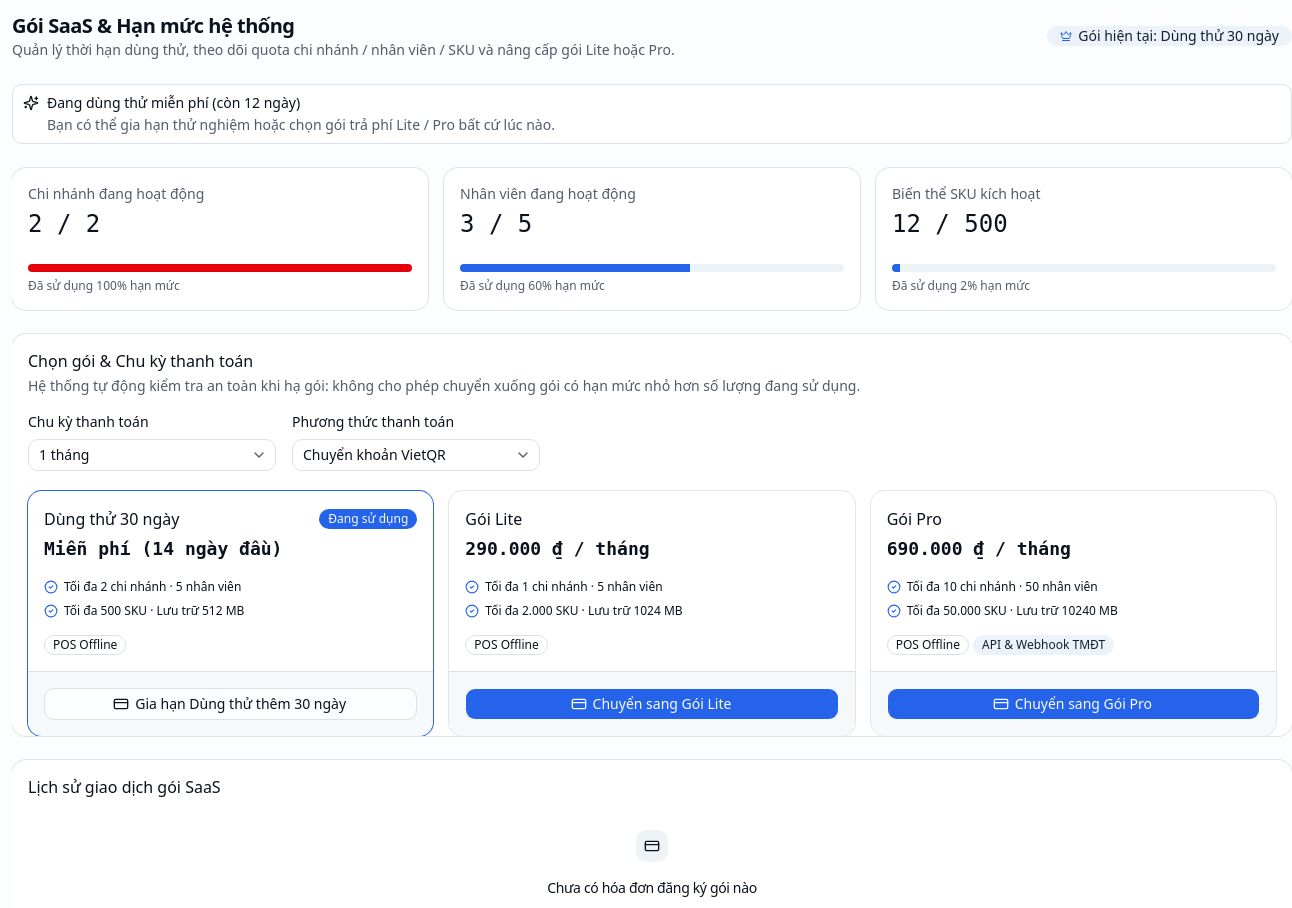
it: Phase 5 Offline Queue, SaaS Billing & Omnichannel Integrations UI › renders BillingPage quotas, shows error when downgrade exceeds active quota, and completes PRO upgrade
Expected: the text "Đang dùng thử miễn phí (còn 12 ngày)" is shown, [47,93,300,112]
Expected: the text "2 / 2" is shown, [28,210,100,238]
Click the button "Chuyển sang Gói Lite" at [652, 704], box [465,688,839,720]
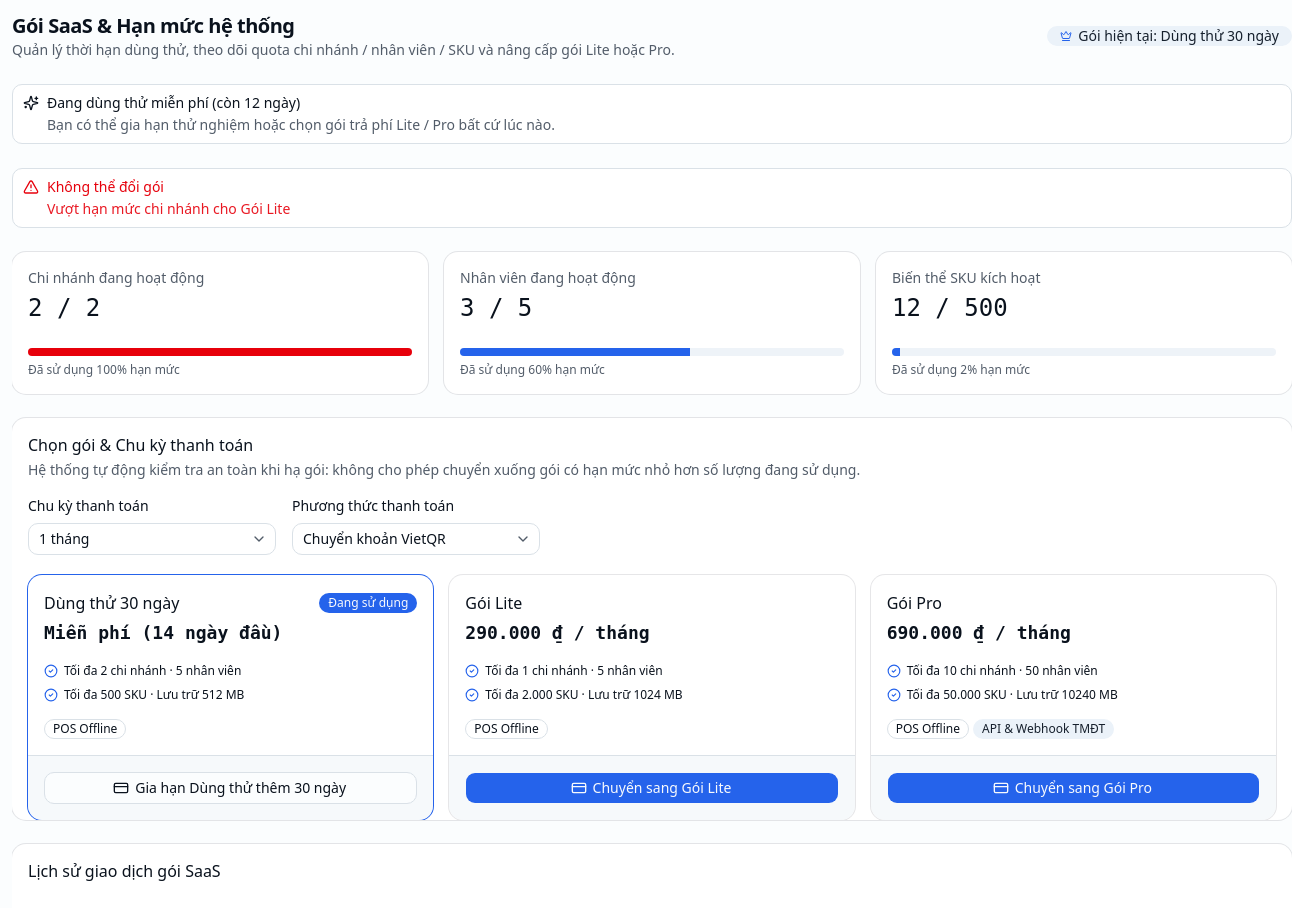
Expected: the text "Vượt hạn mức chi nhánh cho Gói Lite" is shown, [47,199,290,218]
Click the button "Chuyển sang Gói Pro" at [1073, 788], box [887,772,1260,804]
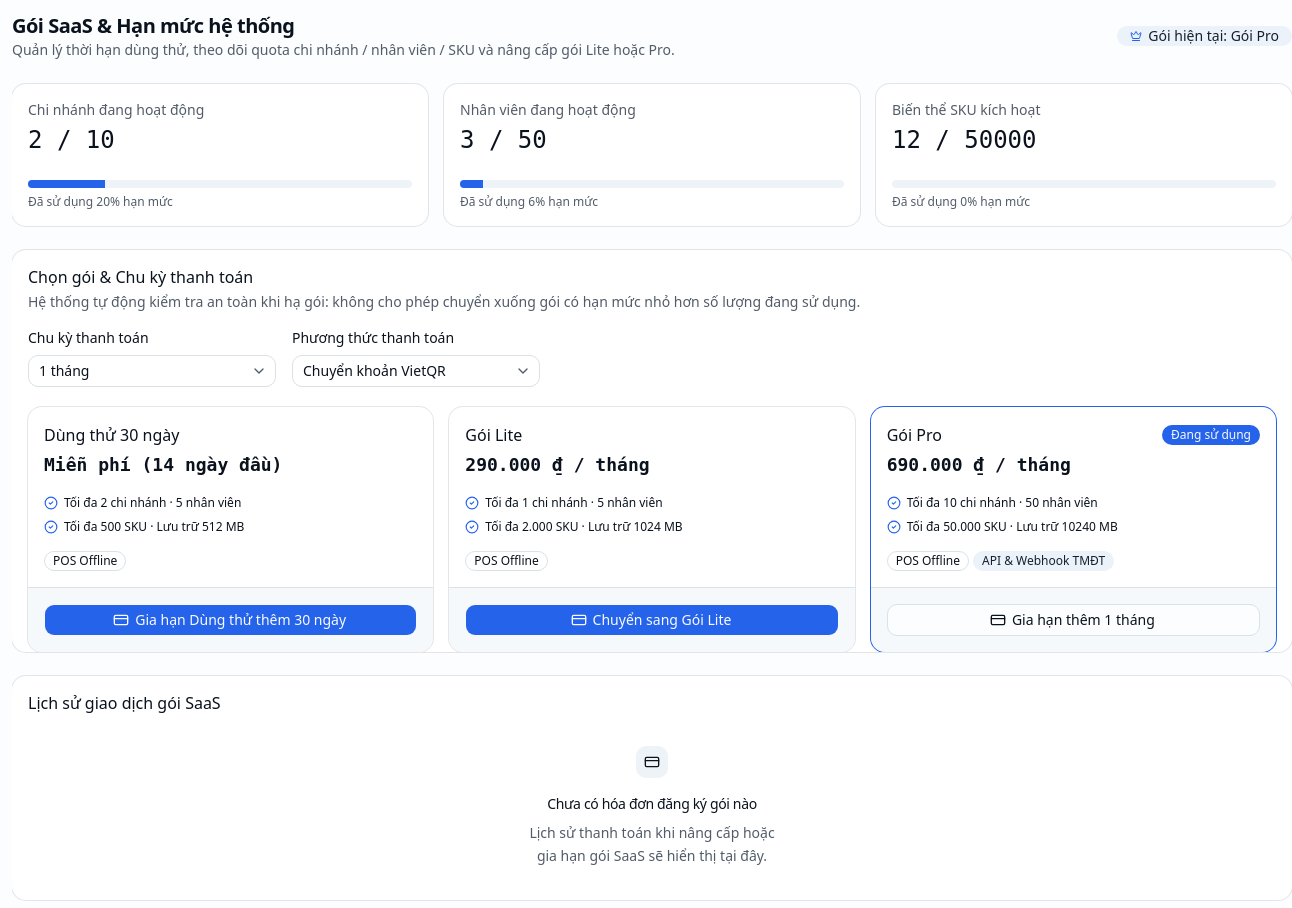
Expected: the text "Gói hiện tại: Gói Pro" is shown, [1117,26,1291,46]
